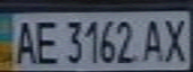1: (81, 17, 100, 64)
2: (115, 17, 139, 65)
3: (60, 17, 84, 64)
6: (100, 17, 121, 65)
A: (9, 17, 39, 65), (139, 16, 169, 64)
E: (30, 17, 60, 65)
X: (160, 15, 193, 64)
